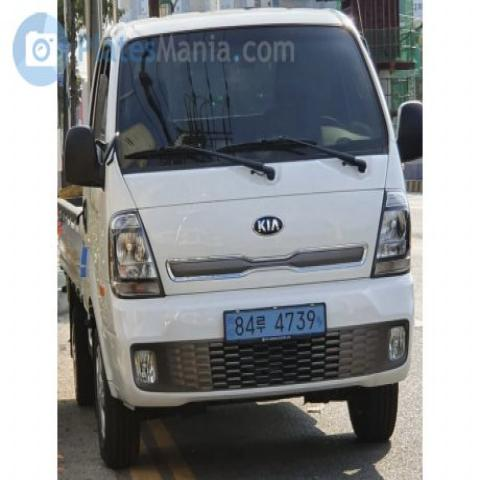LP: (218, 291, 333, 352)
